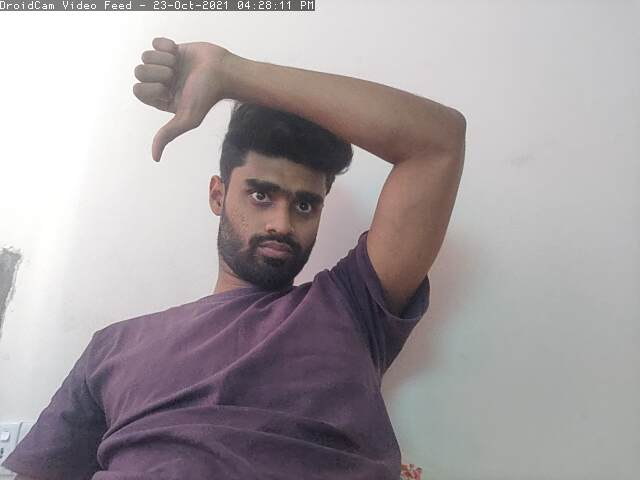ThumbsDown: (128, 30, 227, 165)
